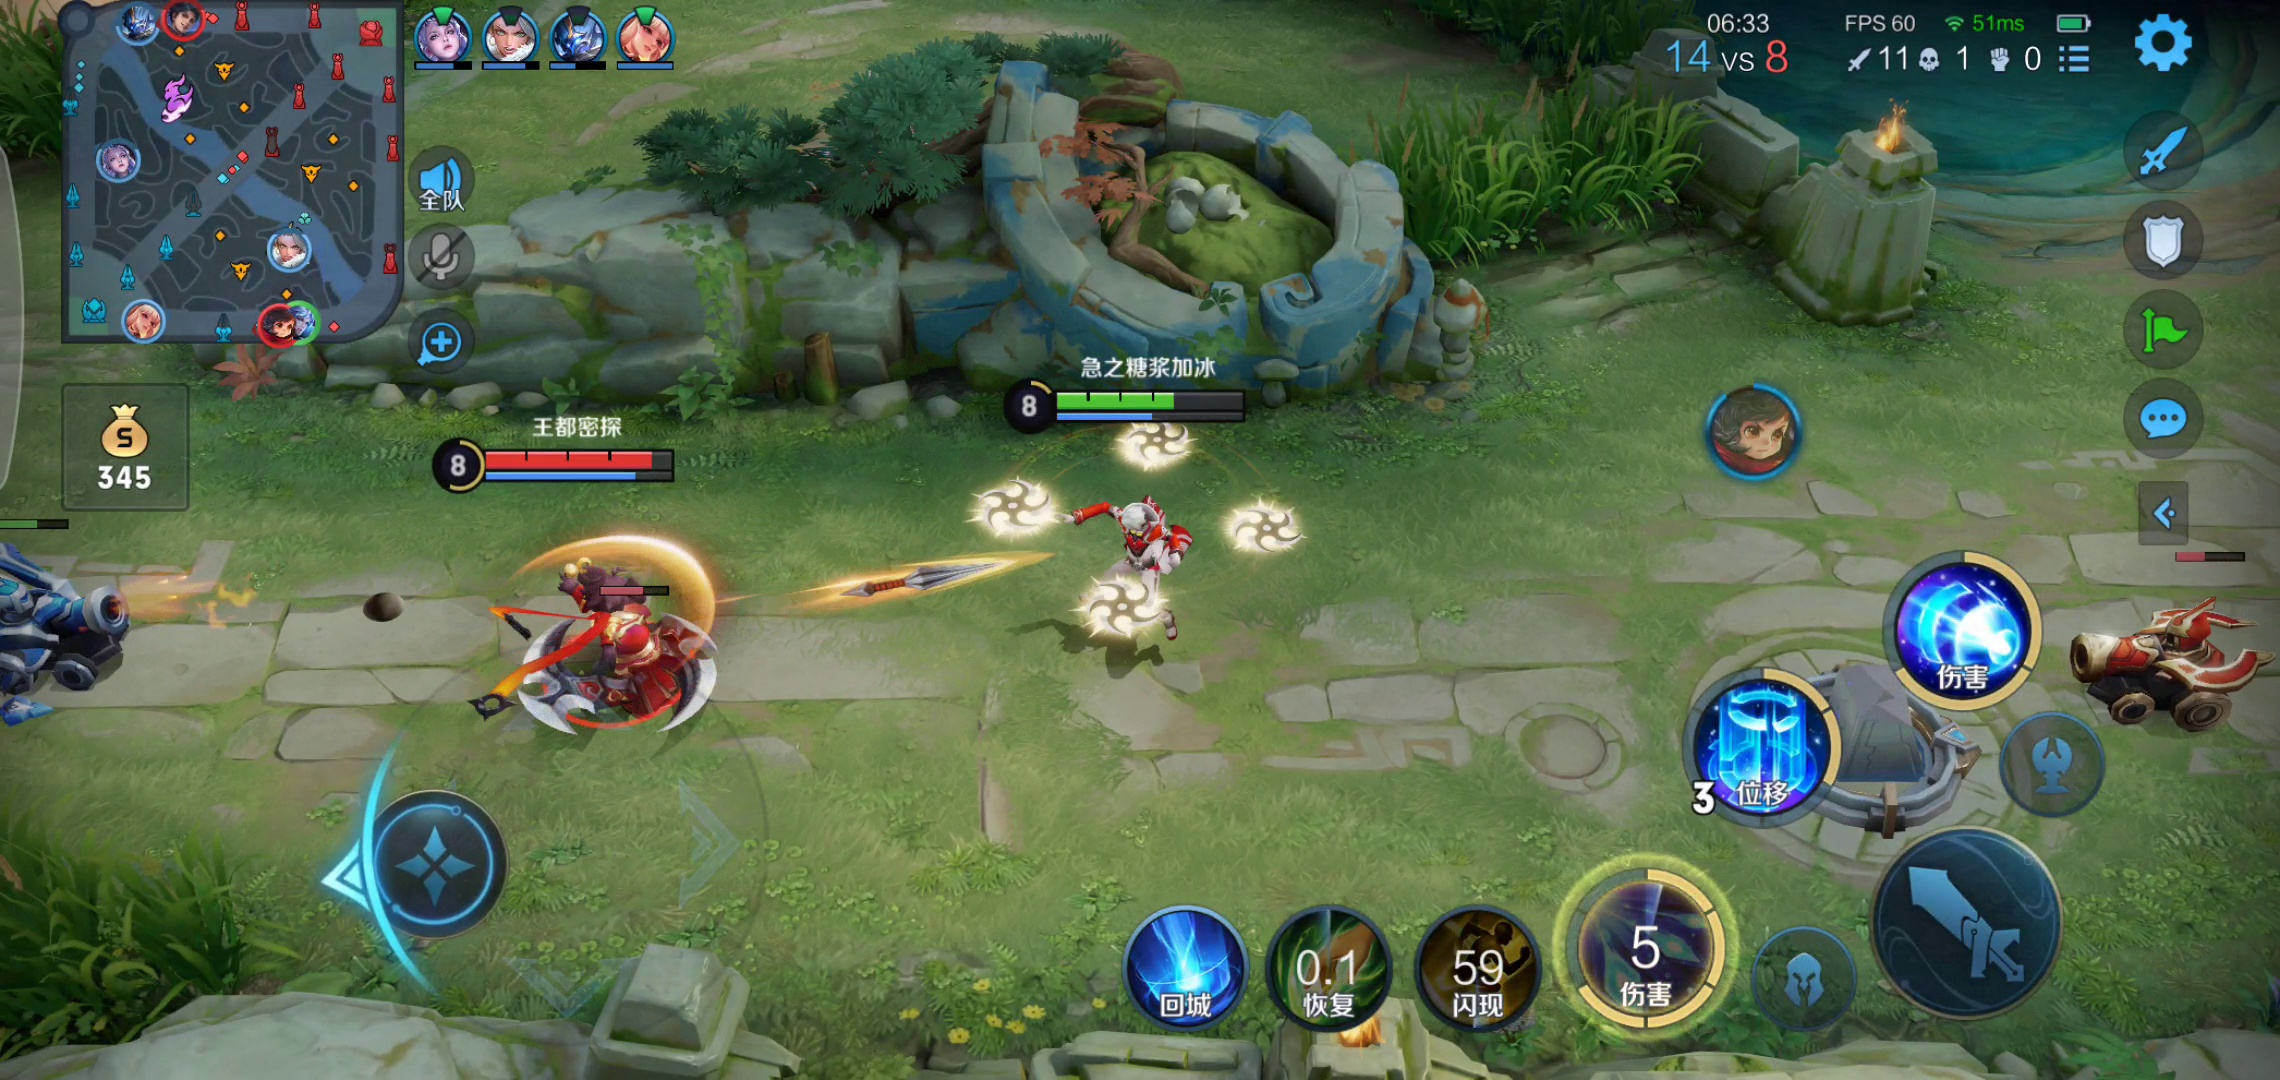grass: (1360, 90, 1693, 254)
hero: (502, 549, 739, 746), (1061, 485, 1229, 666)
soldier: (2068, 600, 2244, 747), (1, 552, 140, 709)
tower: (1805, 658, 1960, 831)
